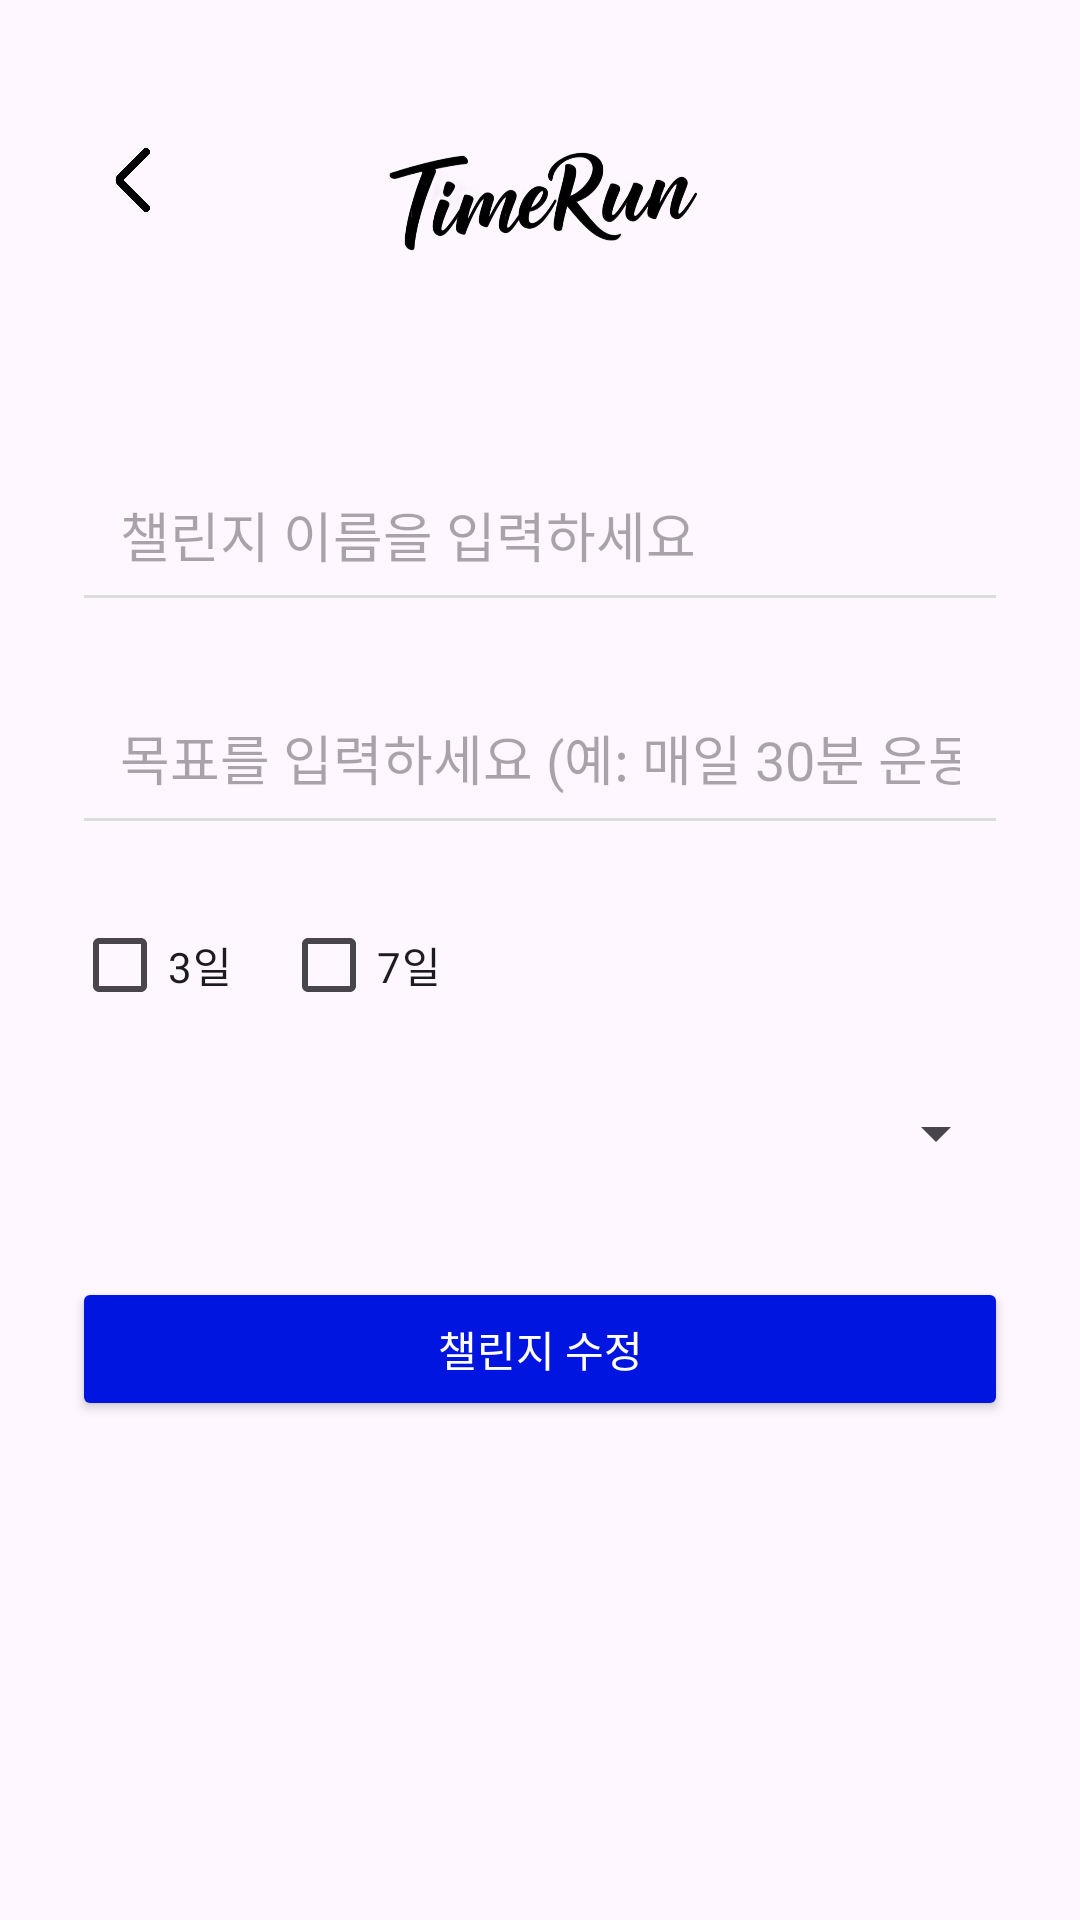

Named icons in this screenshot (1080*1920) and their centers, [x,y]:
뒤로 가기: [132,180]
